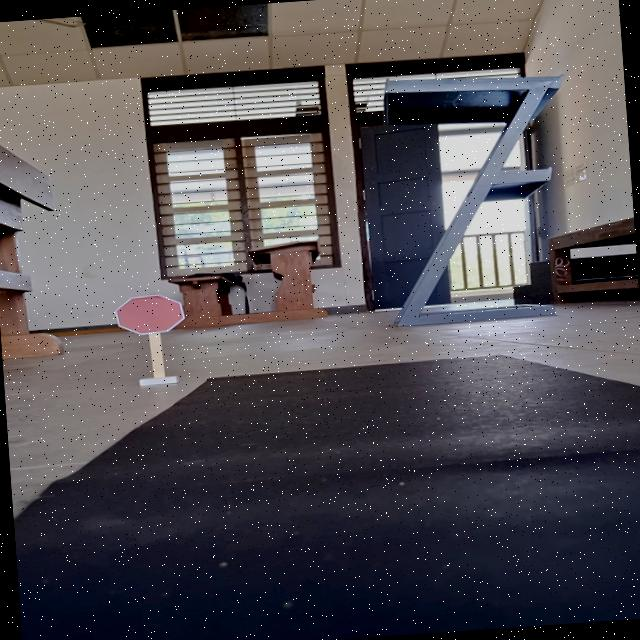Stop: (112, 292, 189, 338)
